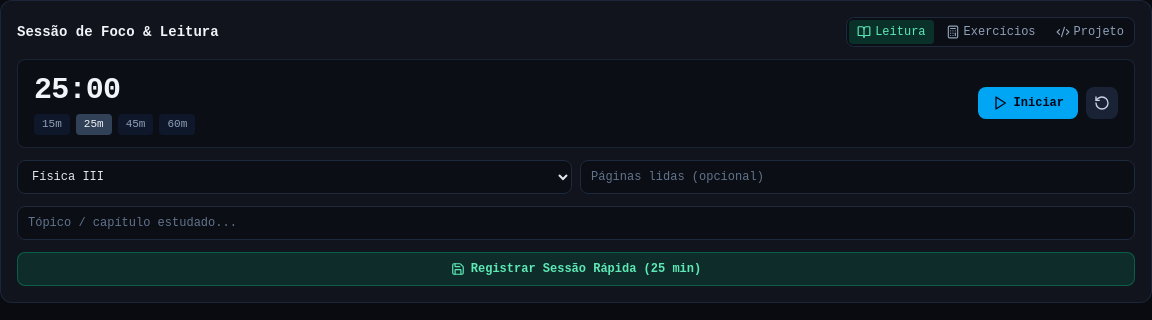
Test case: FocusTimer › logs a quick reading session and switches to project mode
Later steps or results of the test are not shown.
What coordinates should you click on to do the following:
click the button "45m"
I would click on:
 (136, 124)
Its box is [118,114,153,134].
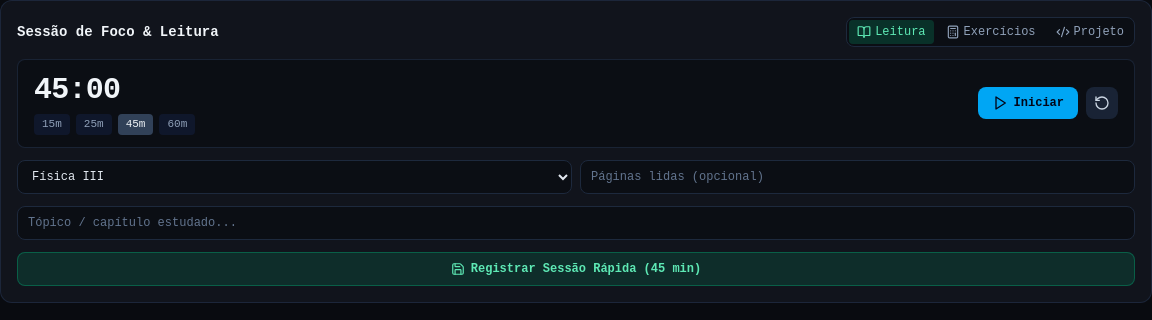
Expected: the text "45:00" is shown, [34,73,120,107]
